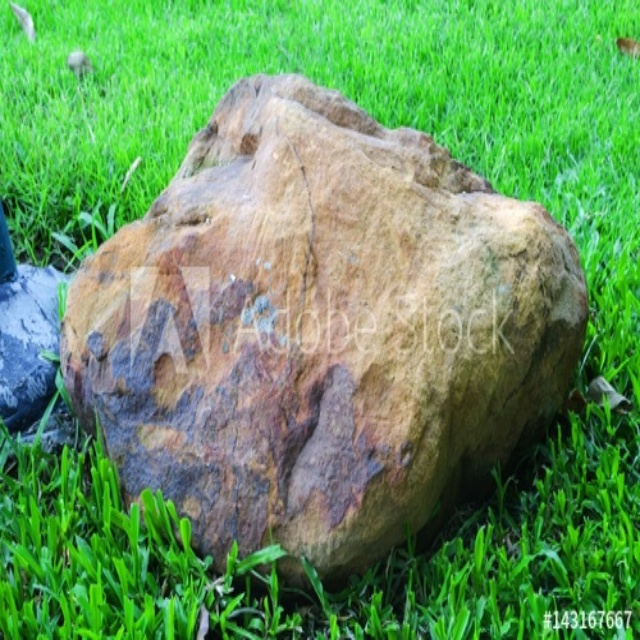obstacle: (60, 75, 586, 576)
